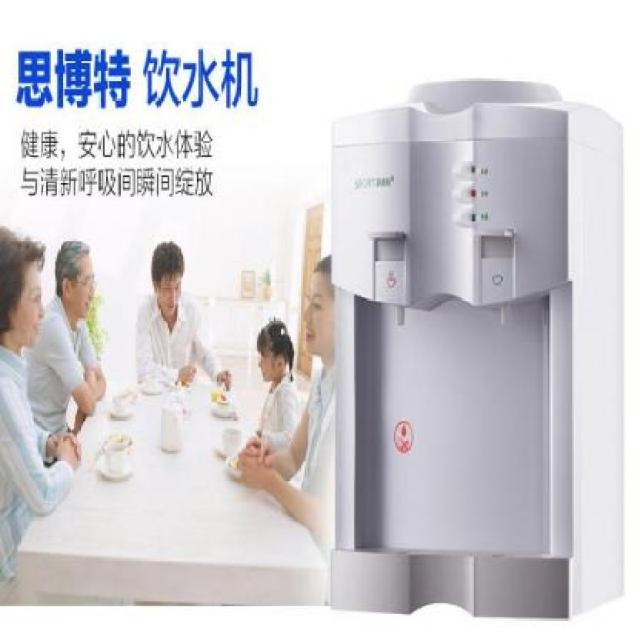cooler: (328, 78, 625, 620)
